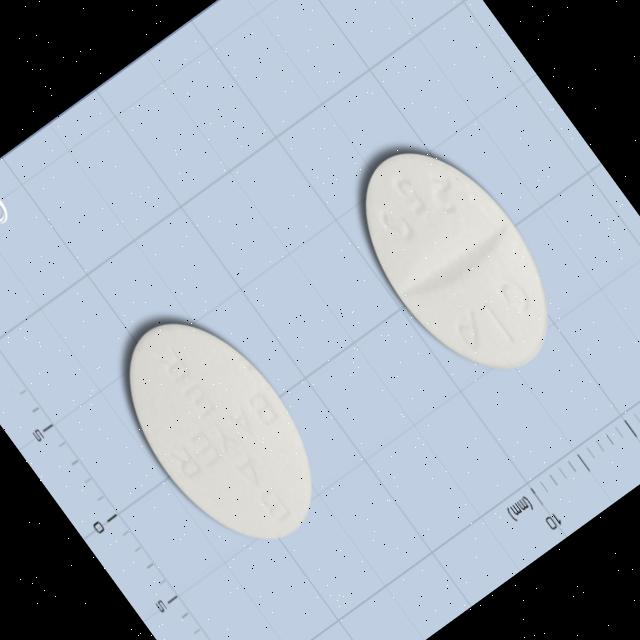Ciprobay: (80, 277, 356, 578), (317, 112, 591, 410)
